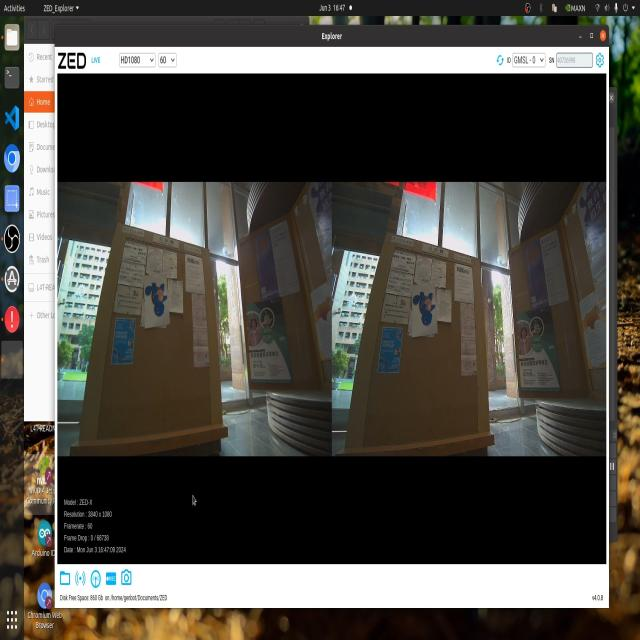blue: (145, 277, 175, 320), (412, 285, 439, 327)
